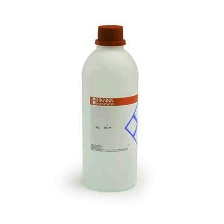cleaning_solution: (78, 21, 140, 195)
